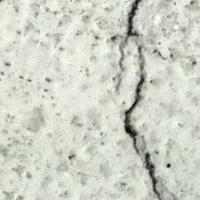crack: (108, 0, 177, 199)
